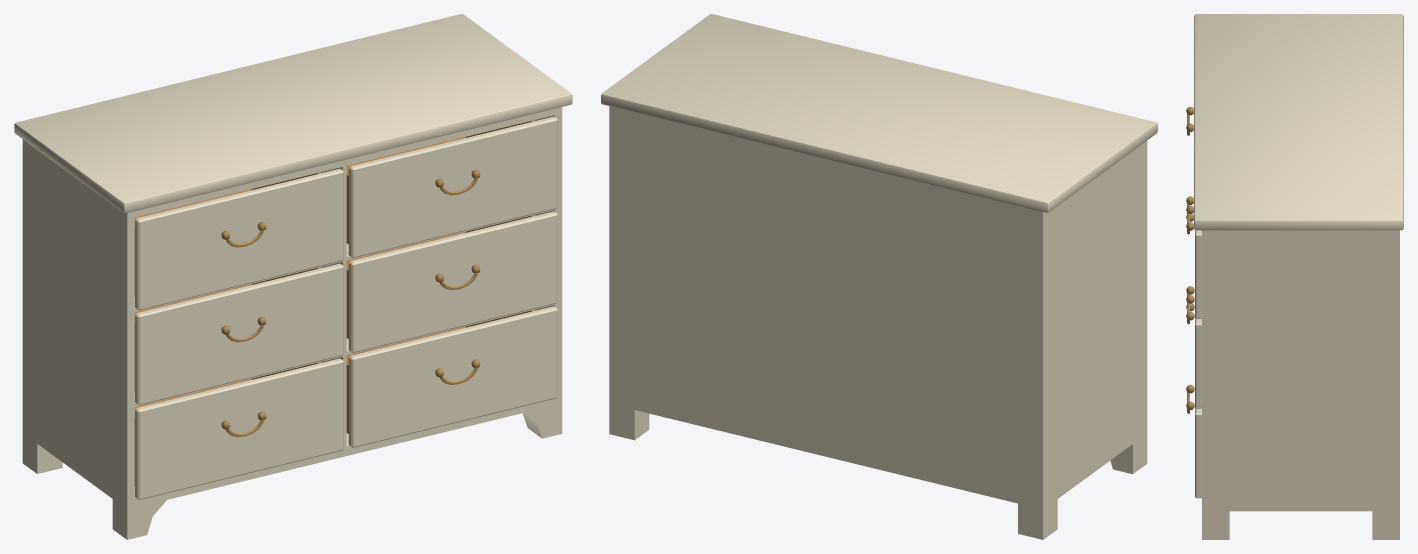
File: dresser_drawers.glb
3 renders of one model, left to right at view 1: azimuth 30°, elevation 25°; view 2: azimuth 150°, elevation 25°; view 3: azimuth 270°, elevation 25°, orthographic. The views are drawn at different scales.
Visible parts, largest first — view 1: dresser_drawers, drawer_2, drawer_6, drawer_4, drawer_1, drawer_3, drawer_5; view 2: dresser_drawers; view 3: dresser_drawers, drawer_6, drawer_4, drawer_2.
Part boxes in pixels (x1,y1,x2,y2): dresser_drawers: (14, 14, 572, 539); drawer_2: (346, 116, 557, 257); drawer_6: (346, 306, 557, 447); drawer_4: (346, 211, 557, 352); drawer_1: (134, 169, 343, 310); drawer_3: (134, 263, 343, 405); drawer_5: (134, 358, 343, 499); dresser_drawers: (601, 14, 1157, 539); dresser_drawers: (1194, 14, 1403, 539); drawer_6: (1186, 385, 1201, 498); drawer_4: (1186, 295, 1201, 408); drawer_2: (1186, 205, 1201, 318).
Bounding box in the file's own units: 1.24 × 0.9 × 0.55.
